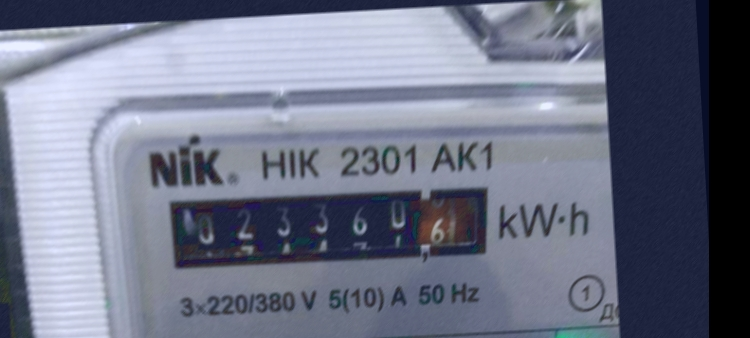0: (383, 193, 407, 230), (190, 208, 214, 244)
2: (230, 204, 253, 240)
3: (269, 202, 291, 238), (308, 199, 328, 234)
6: (345, 200, 367, 235), (424, 210, 443, 244)
screen: (152, 169, 508, 287)
